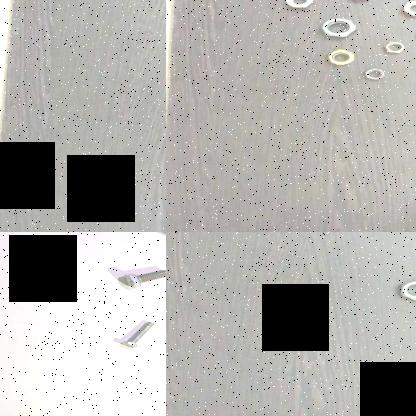Bolts: (115, 318, 157, 350), (120, 266, 166, 288), (142, 232, 166, 247)
NUTS: (320, 16, 360, 40), (322, 45, 358, 67), (393, 279, 416, 300), (362, 65, 388, 81), (283, 0, 317, 11), (384, 40, 407, 56), (399, 0, 416, 17)
